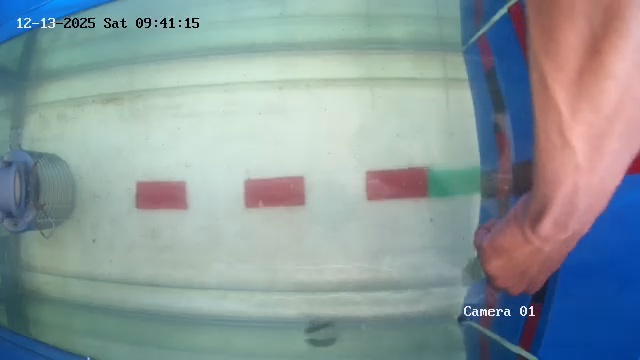fish: (310, 315, 353, 336)
